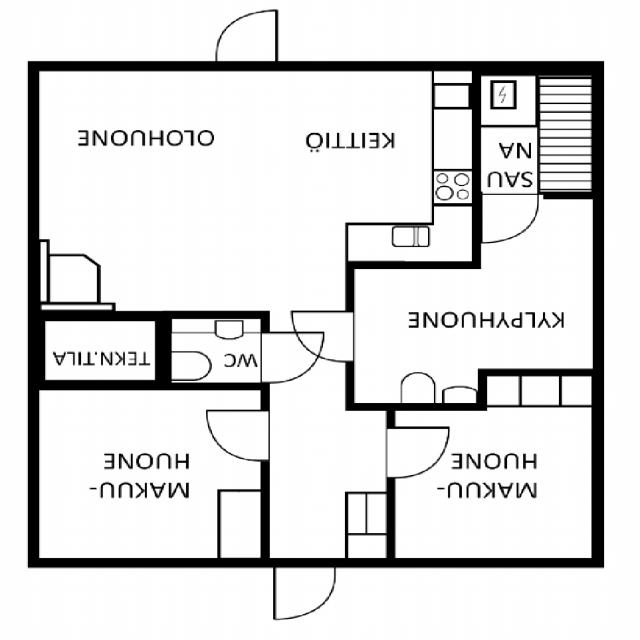door: (215, 11, 276, 71), (200, 410, 270, 461), (274, 558, 334, 617), (285, 311, 354, 361), (386, 427, 453, 477), (260, 333, 328, 382), (482, 192, 537, 244)
